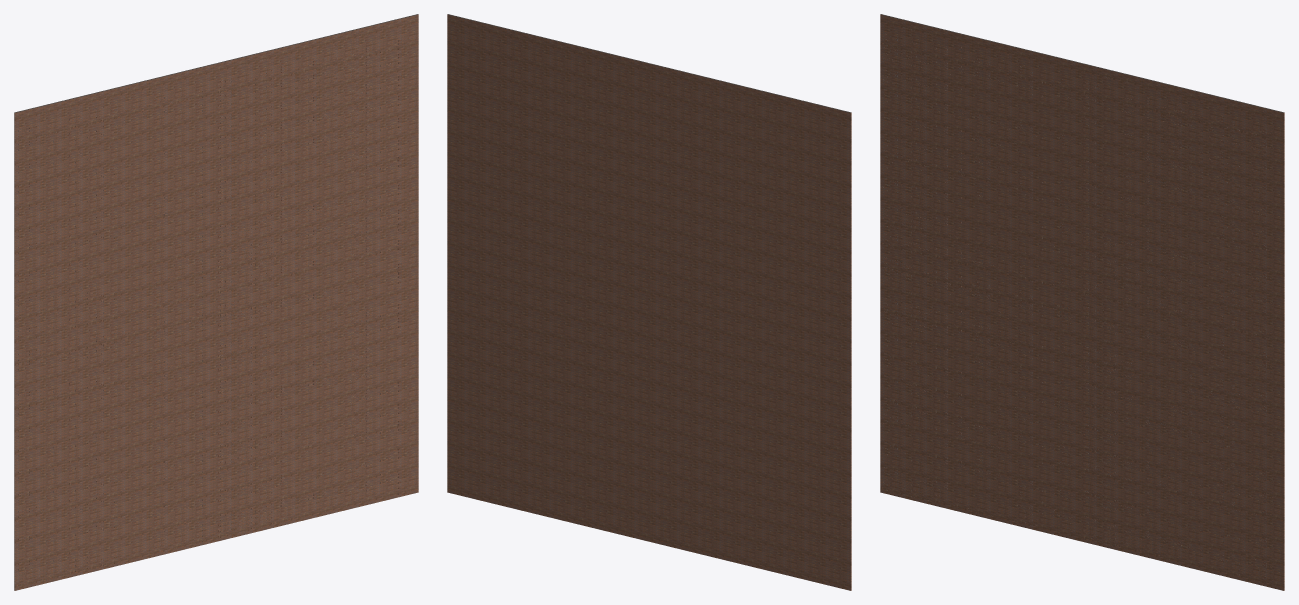
Rendered from Tutorial_Model_Structure_BS4Wall_2.fbx.
3 views of the same model, side by side, from view 1: azimuth 30°, elevation 25°; view 2: azimuth 150°, elevation 25°; view 3: azimuth 330°, elevation 25° (orthographic).
Visible parts, largest first — view 1: Wall_12; view 2: Wall_12; view 3: Wall_12.
Part boxes in pixels (bbox=[...]): Wall_12: bbox=[14, 14, 418, 590]; Wall_12: bbox=[447, 14, 851, 590]; Wall_12: bbox=[880, 14, 1284, 590].
Size of the model in its own units: 1496 by 1693 by 4.56.
1 material, 1 textured.
